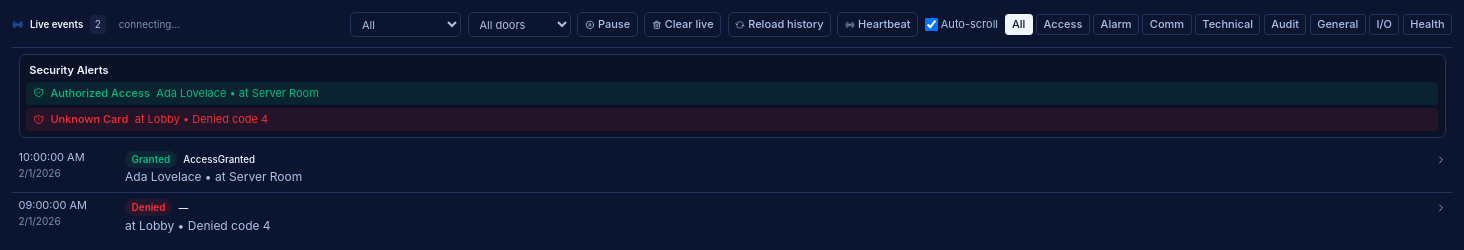
Scenario: the door filter › keeps only the chosen door's events once one is picked
The width and height of the screenshot is (1464, 250).
Select "Server Room" in the 2nd dropdown at (519, 25), box [468,12,571,37]
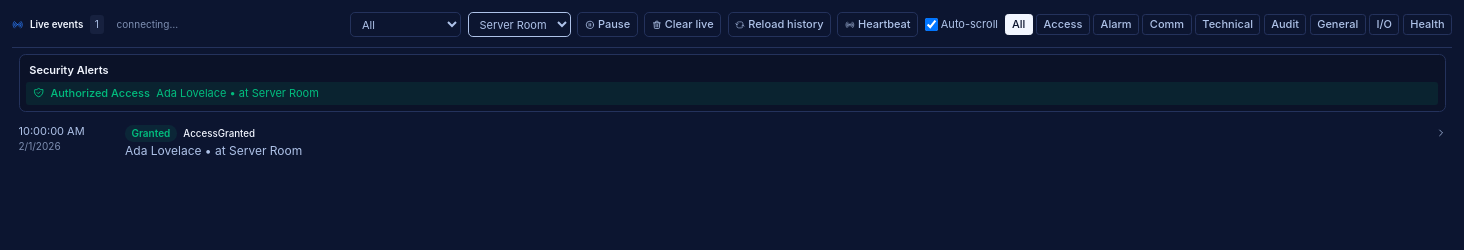
Expected: the text "Ada Lovelace • at Server Room" next to "Authorized Access" is shown, [156,86,319,100]
Result: the text "Denied code 4" is not shown
